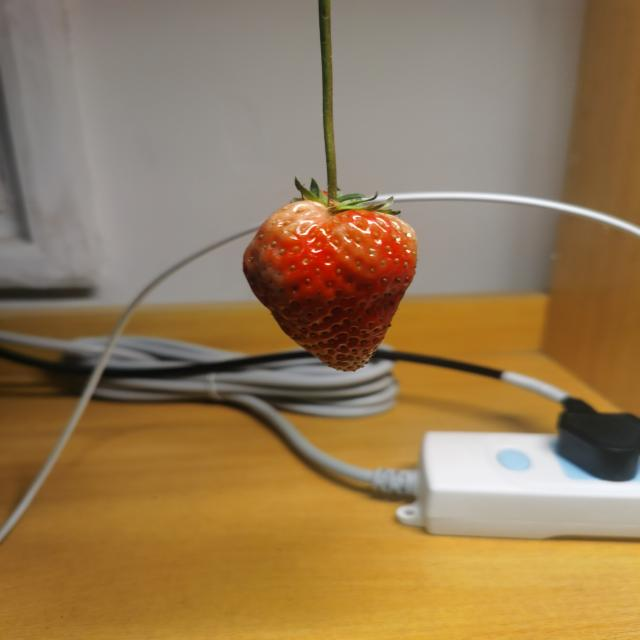stem: (323, 99, 339, 209)
strawberry: (242, 199, 417, 372)
